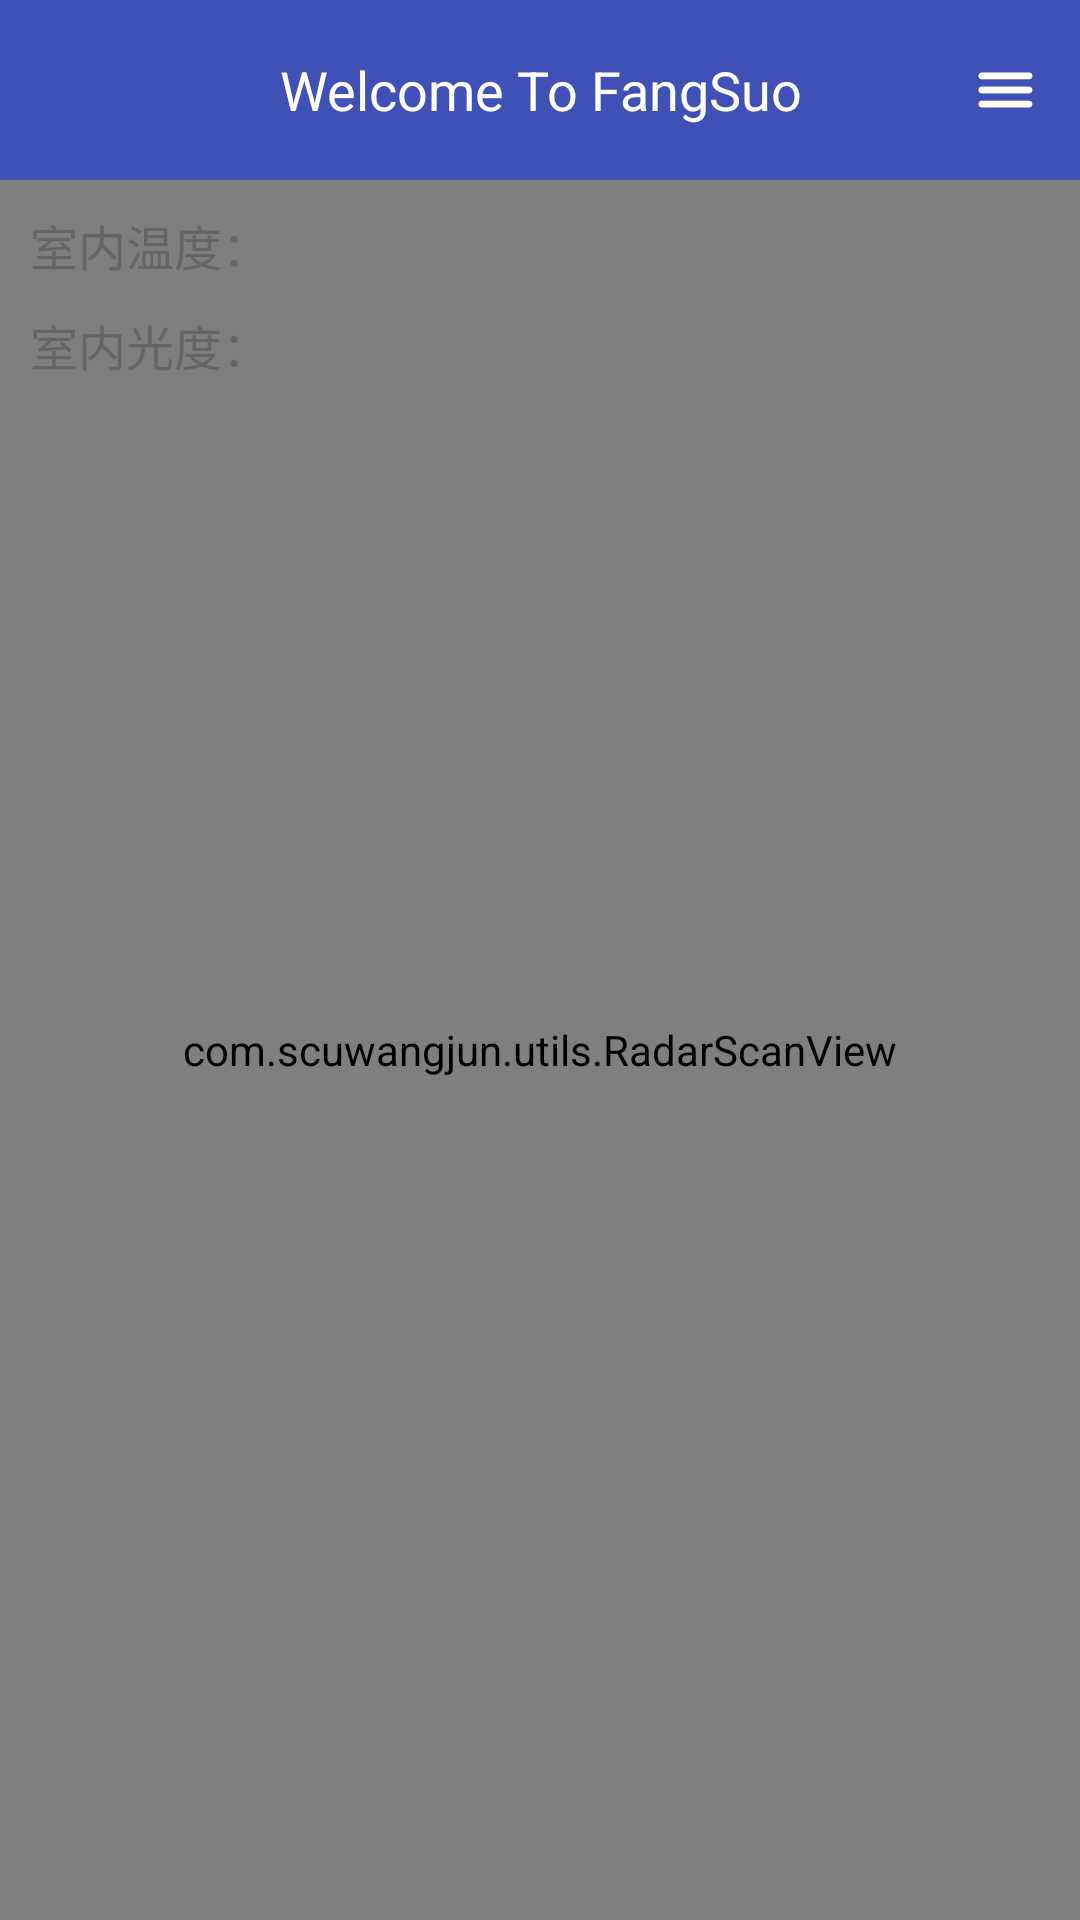

Where to tap for icons on this 1080px×1920px app screen, as (x=x, y=y):
menu: (x=1005, y=90)
